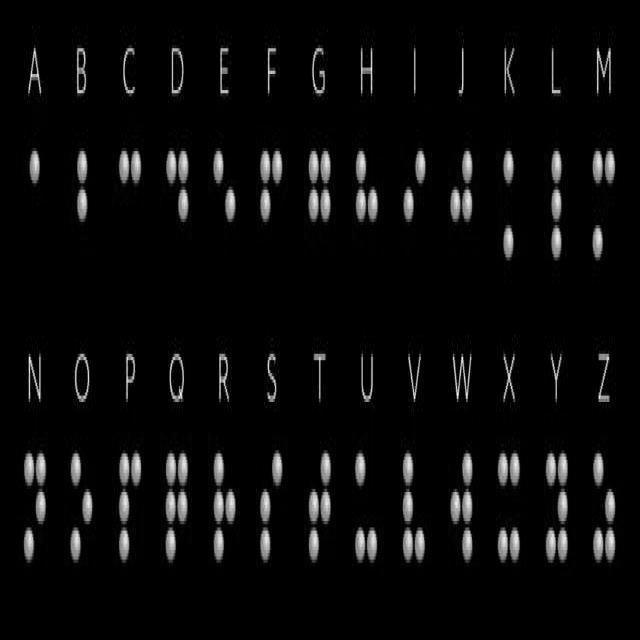braiile: (115, 440, 145, 576), (162, 440, 192, 576), (305, 440, 335, 576), (352, 440, 382, 576), (542, 440, 572, 576), (26, 135, 56, 270), (162, 135, 192, 270), (548, 143, 580, 269), (446, 136, 476, 268), (210, 446, 240, 578), (256, 442, 286, 574), (448, 439, 478, 571), (589, 446, 619, 578), (256, 138, 286, 267), (352, 135, 382, 264), (400, 135, 430, 264), (501, 142, 531, 270), (589, 143, 619, 269), (400, 445, 430, 571), (74, 142, 102, 276), (306, 138, 334, 267), (21, 443, 49, 572), (116, 138, 142, 274), (496, 440, 522, 576), (210, 143, 238, 269), (68, 445, 95, 571)
